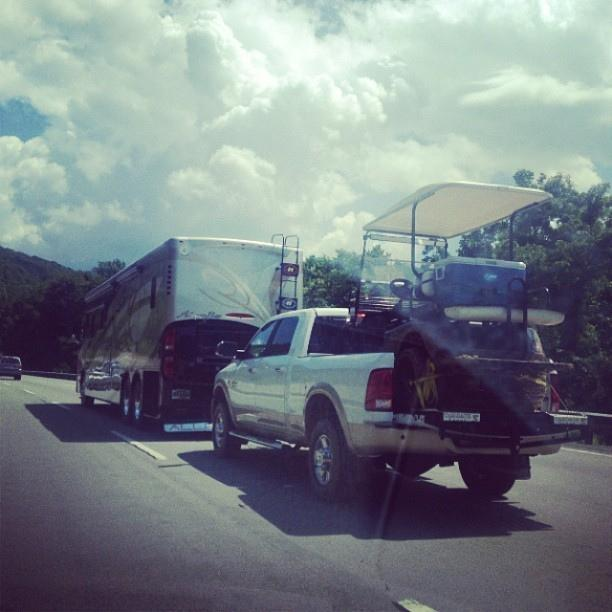bus: (71, 235, 310, 431)
car: (1, 356, 21, 379)
truck: (206, 308, 588, 501)
